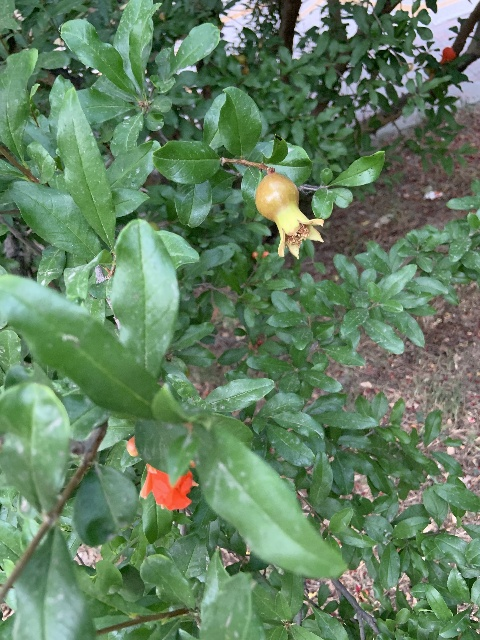bud: (126, 436, 138, 456)
early-fruit: (255, 172, 325, 260)
flower: (139, 462, 197, 510)
